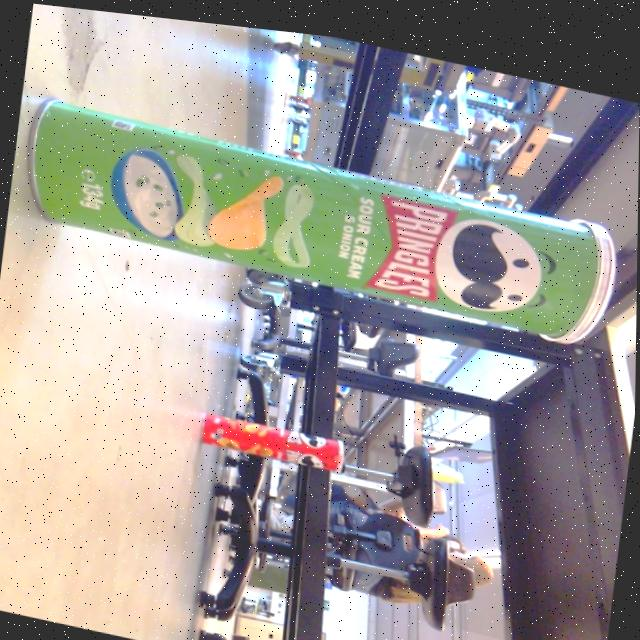greenpringles: (3, 76, 639, 357)
redpringles: (183, 385, 376, 491)
